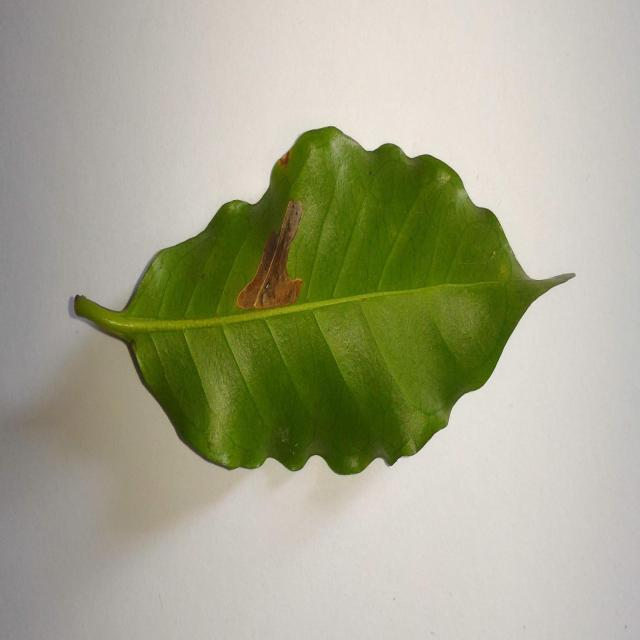Plaga-Minador: (69, 126, 575, 478)
